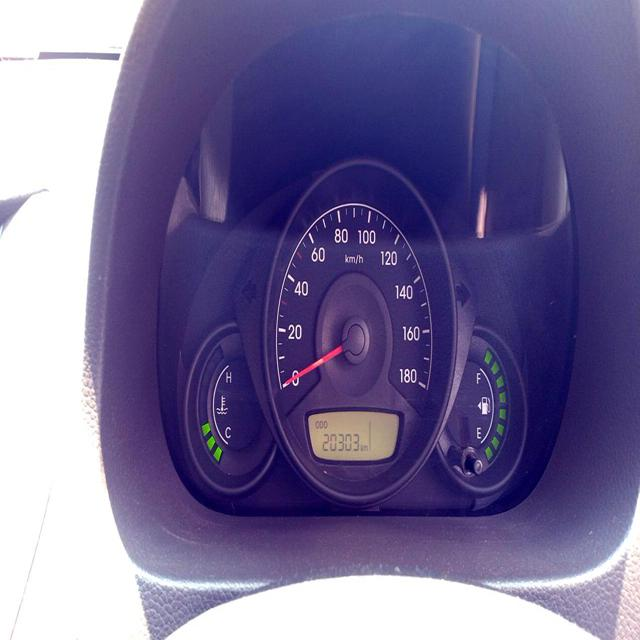odometer: (321, 431, 360, 455)
